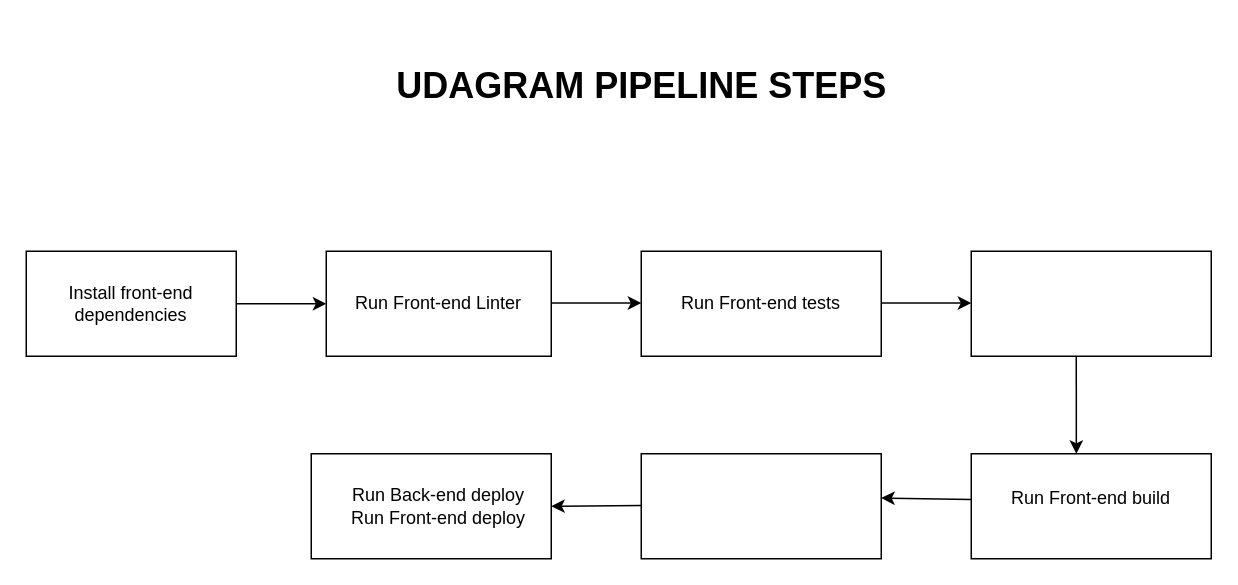
Image size: 1238x585. Some labels were removed from this diagram. Each missing label, with the centre of its shape:
"Install Back-end dependencies" goes at pixel 1090 303.
"Run Back-end build" goes at pixel 760 505.
